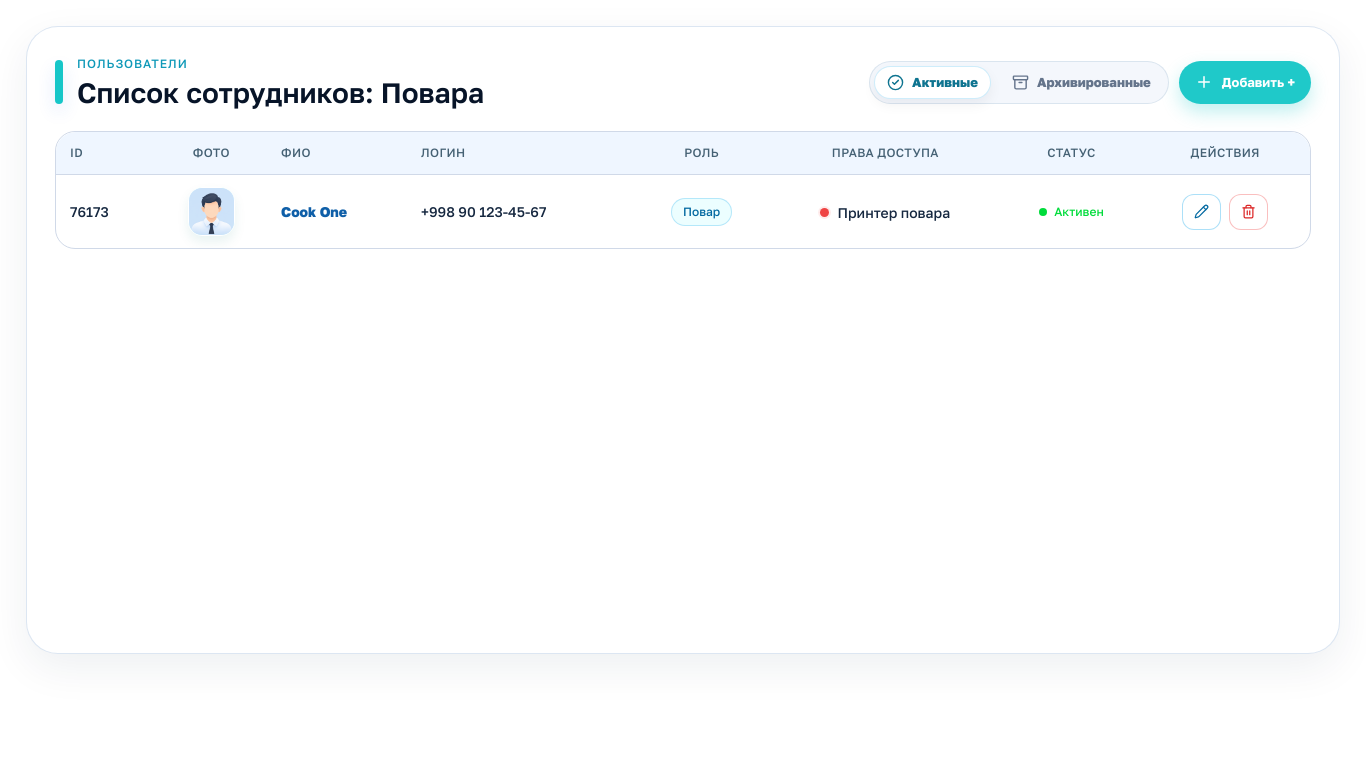
it: kitchen page (/users/kitchen) matches the staff template › switches between active and archived cooks
Check: the text "Cook One" is shown, box [267,174,407,248]
Check: the text "Old Cook" is not shown
Click the button "Архивированные" at x=1081, y=82, box [999,66,1164,99]
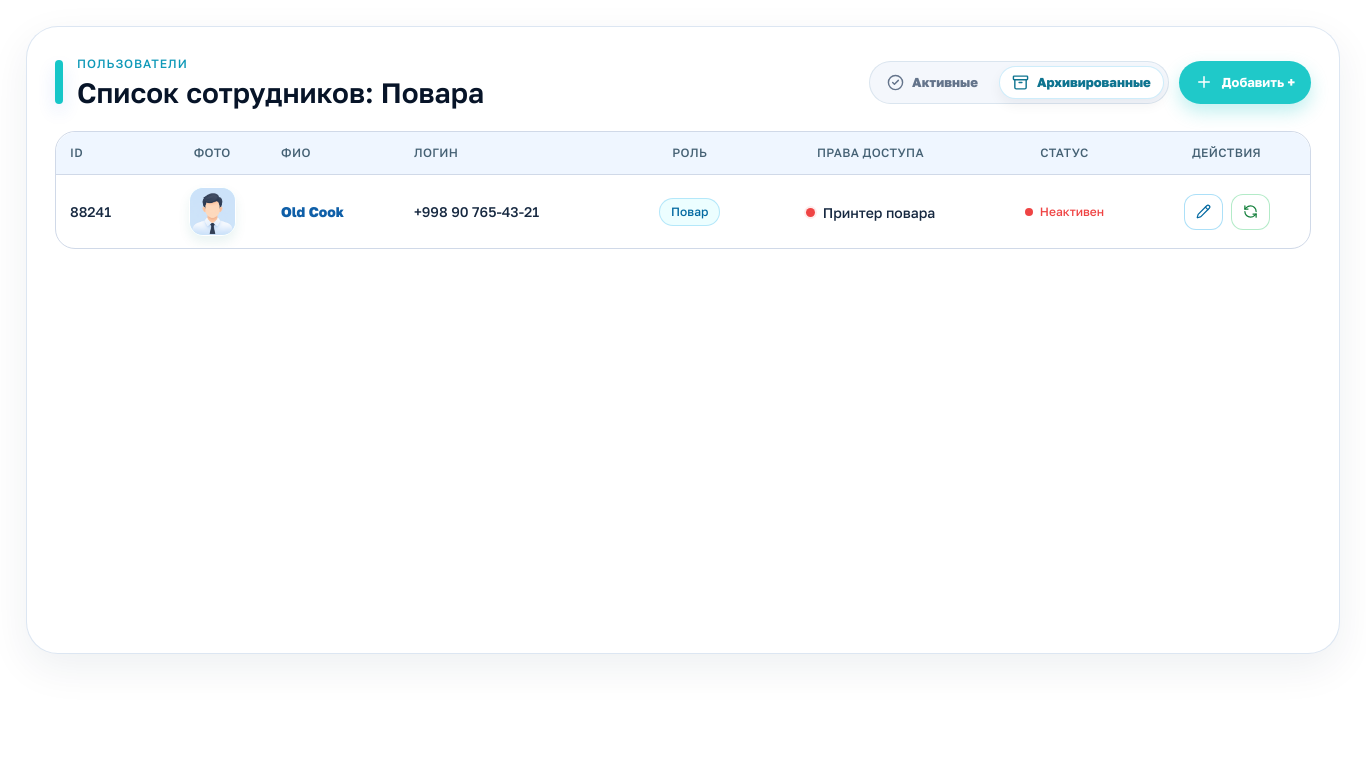
Check: the text "Old Cook" is shown, box [267,174,400,248]
Check: the text "Cook One" is gone
Check: the text "Неактивен" is shown, box [1025,204,1104,219]
Click the button "Активные" at x=933, y=82, box [874,66,991,99]
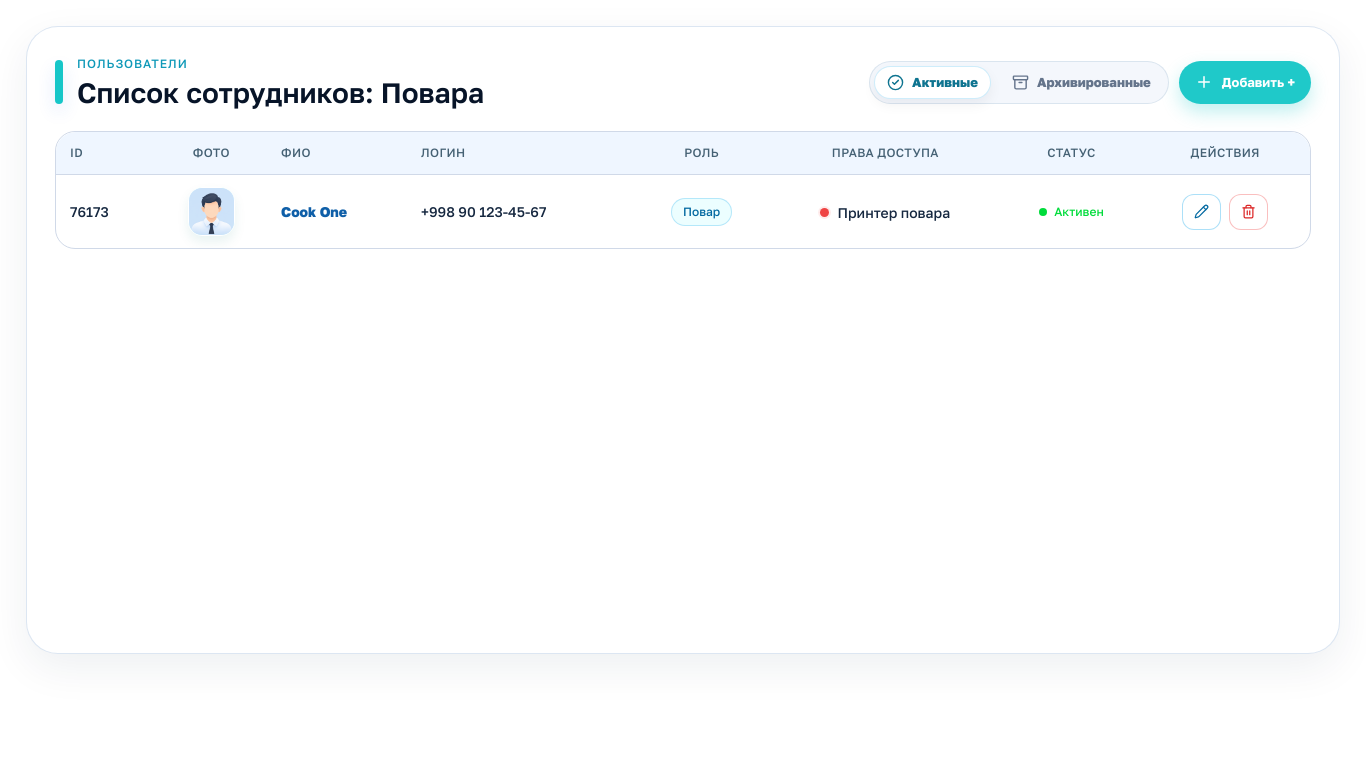
Check: the text "Cook One" is shown, box [267,174,407,248]
Check: the text "Old Cook" is gone
